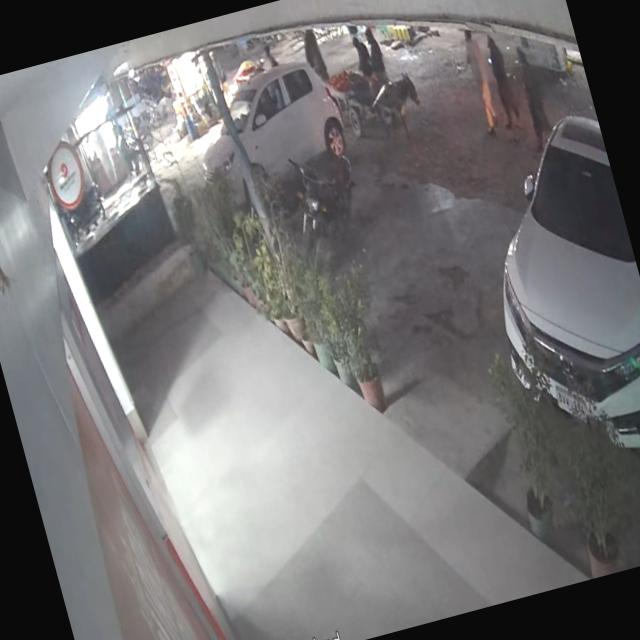Car: (438, 61, 640, 488), (157, 38, 357, 205)
Motorcycle: (278, 132, 374, 260)
